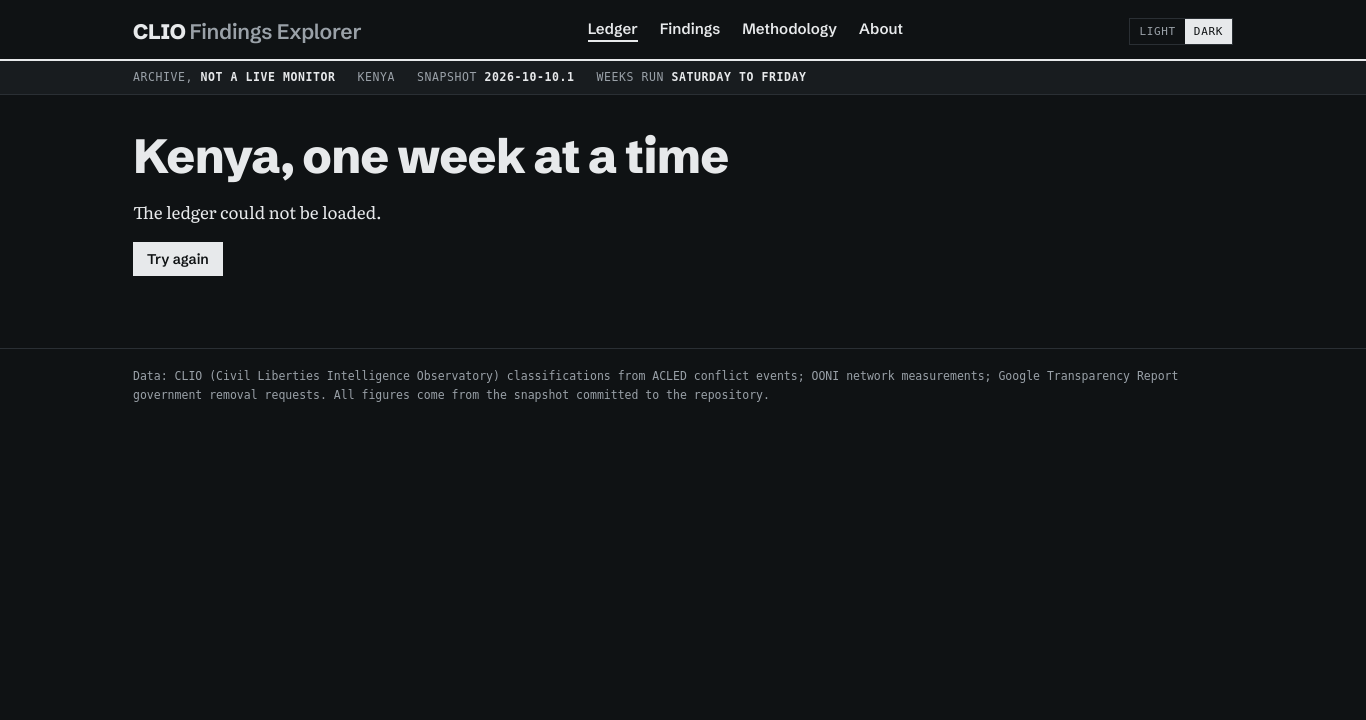
Test: Ledger states › shows an error with Try again when the timeline fails, and retries
Expected: the text "The ledger could not be loaded." is shown, [133, 199, 382, 224]
Expected: the navigation bar named "Main" is shown, [588, 21, 903, 42]
Click the button "Try again": point(178, 259) [133, 242, 223, 276]
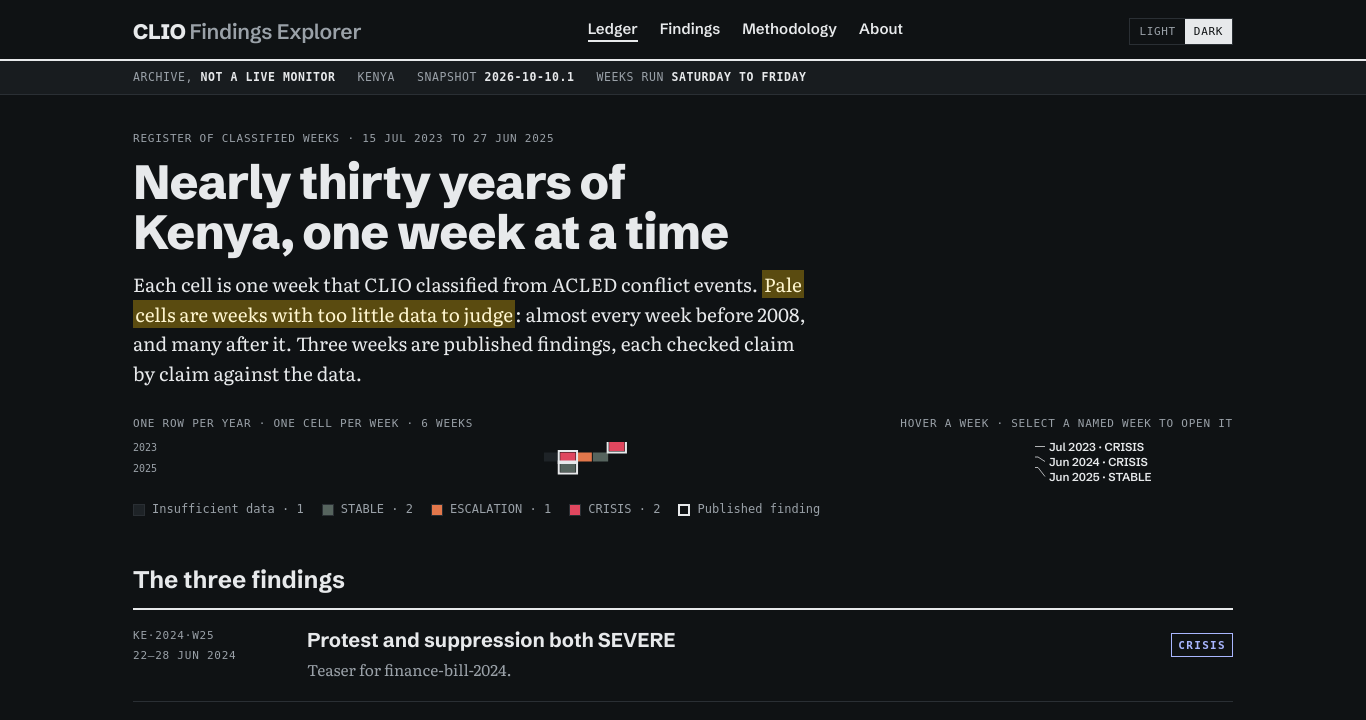
Now the picture is shown, box [133, 442, 1233, 488]
